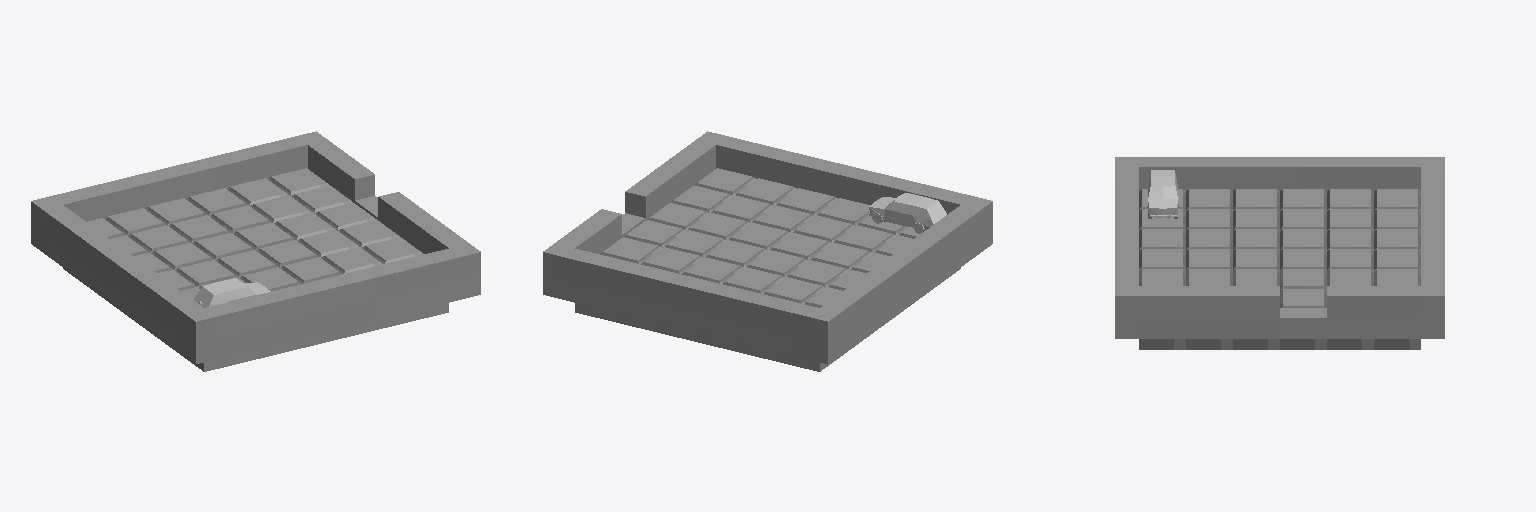
3 views of the same model, side by side, from view 1: azimuth 30°, elevation 25°; view 2: azimuth 150°, elevation 25°; view 3: azimuth 270°, elevation 25° (orthographic).
Parts seen in each view (by area): view 1: Cube.008, Cube.004, Car; view 2: Cube.008, Cube.004, Car; view 3: Cube.008, Cube.004, Car.
Part boxes in pixels (bbox=[...]): Cube.008: bbox=[31, 131, 480, 363]; Cube.004: bbox=[63, 168, 448, 371]; Car: bbox=[194, 278, 270, 307]; Cube.008: bbox=[543, 131, 992, 363]; Cube.004: bbox=[575, 168, 960, 371]; Car: bbox=[869, 193, 946, 233]; Cube.008: bbox=[1115, 157, 1444, 338]; Cube.004: bbox=[1139, 189, 1420, 349]; Car: bbox=[1147, 170, 1180, 218].
Size of the model in its own units: 14 by 3.24 by 14.
2 materials, 1 textured.